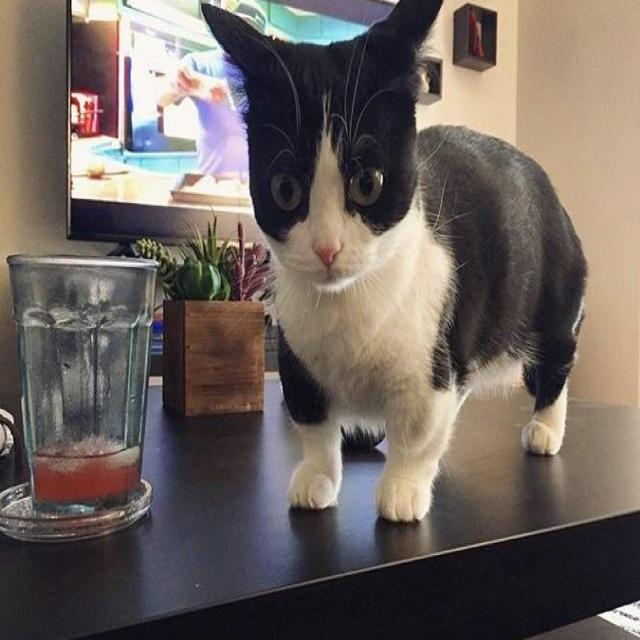Munchkin: (195, 0, 593, 527)
